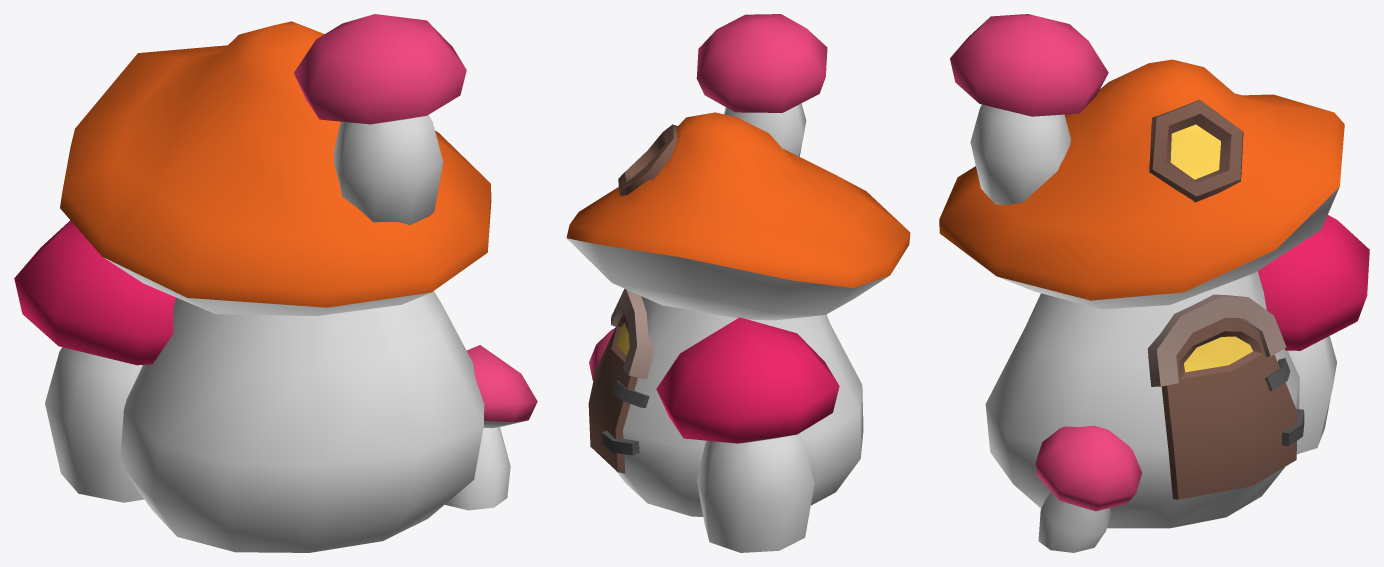
Rendered from n4_house_001_lev4.001.glb.
The picture shows the model from 3 angles, left to right: view 1: azimuth 30°, elevation 25°; view 2: azimuth 150°, elevation 25°; view 3: azimuth 270°, elevation 25°; orthographic projection. The views are drawn at different scales.
Parts seen in each view (by area): view 1: n4_house_001_lev4.001; view 2: n4_house_001_lev4.001; view 3: n4_house_001_lev4.001.
Part boxes in pixels (<box>): n4_house_001_lev4.001: <box>14,14,537,552</box>; n4_house_001_lev4.001: <box>566,14,910,552</box>; n4_house_001_lev4.001: <box>939,14,1369,552</box>.
Bounding box in the file's own units: 6.91 × 8.62 × 7.13.
1 material, 1 textured.
